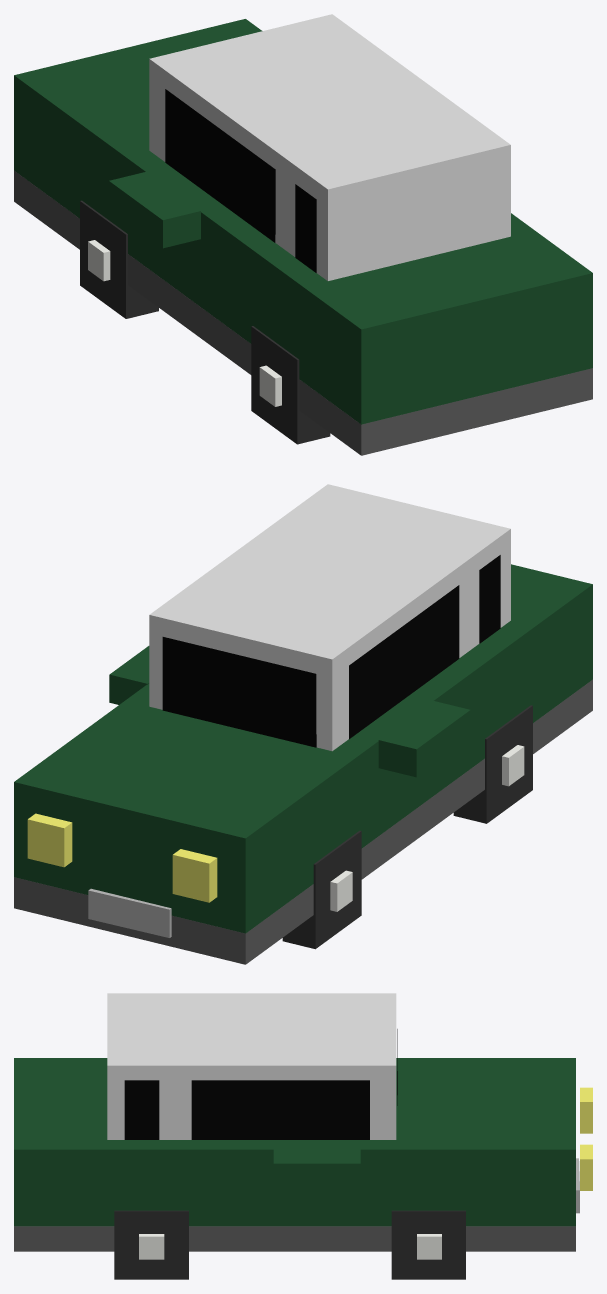
Rendered from car3.gltf.
3 views of the same model, one above another, from view 1: azimuth 30°, elevation 25°; view 2: azimuth 150°, elevation 25°; view 3: azimuth 270°, elevation 25° (orthographic). The views are drawn at different scales.
Visible parts, largest first — view 1: montaje central.002; view 2: montaje central.002; view 3: montaje central.002.
Boxes of the visible parts, box(x1,y1,x2,y2) form: montaje central.002: box(14, 14, 592, 455); montaje central.002: box(14, 484, 592, 964); montaje central.002: box(14, 993, 592, 1279).
Size of the model in its own units: 12.61 by 9.87 by 25.43.
